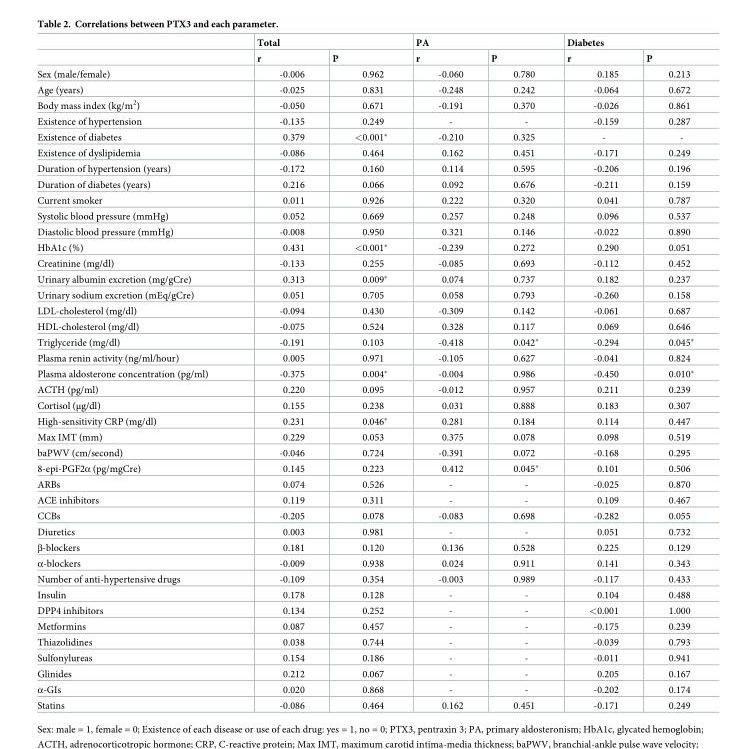table: (36, 37, 692, 710)
table column: (36, 37, 231, 710), (231, 37, 317, 710), (317, 37, 400, 710), (551, 37, 631, 710), (400, 37, 476, 710), (476, 37, 551, 710), (631, 37, 692, 710)
table column header: (36, 37, 692, 65)
table row: (36, 96, 692, 113), (36, 128, 692, 145), (36, 238, 692, 255), (36, 270, 692, 287), (36, 333, 692, 350), (36, 396, 692, 413), (36, 459, 692, 476), (36, 554, 692, 571), (36, 680, 692, 697), (36, 65, 692, 81), (36, 160, 692, 176), (36, 176, 692, 192), (36, 192, 692, 208), (36, 302, 692, 318), (36, 365, 692, 381), (36, 413, 692, 429), (36, 476, 692, 492), (36, 507, 692, 523), (36, 538, 692, 554), (36, 586, 692, 602), (36, 602, 692, 618), (36, 618, 692, 634), (36, 649, 692, 665), (36, 50, 692, 65), (36, 81, 692, 96), (36, 113, 692, 128), (36, 145, 692, 160), (36, 208, 692, 223), (36, 223, 692, 238), (36, 255, 692, 270), (36, 287, 692, 302), (36, 318, 692, 333), (36, 350, 692, 365), (36, 381, 692, 396), (36, 429, 692, 444), (36, 444, 692, 459), (36, 492, 692, 507), (36, 523, 692, 538), (36, 571, 692, 586), (36, 634, 692, 649), (36, 665, 692, 680), (36, 37, 692, 50), (36, 697, 692, 710)
table spanning cell: (231, 37, 400, 50), (400, 37, 551, 50), (551, 37, 692, 50)
